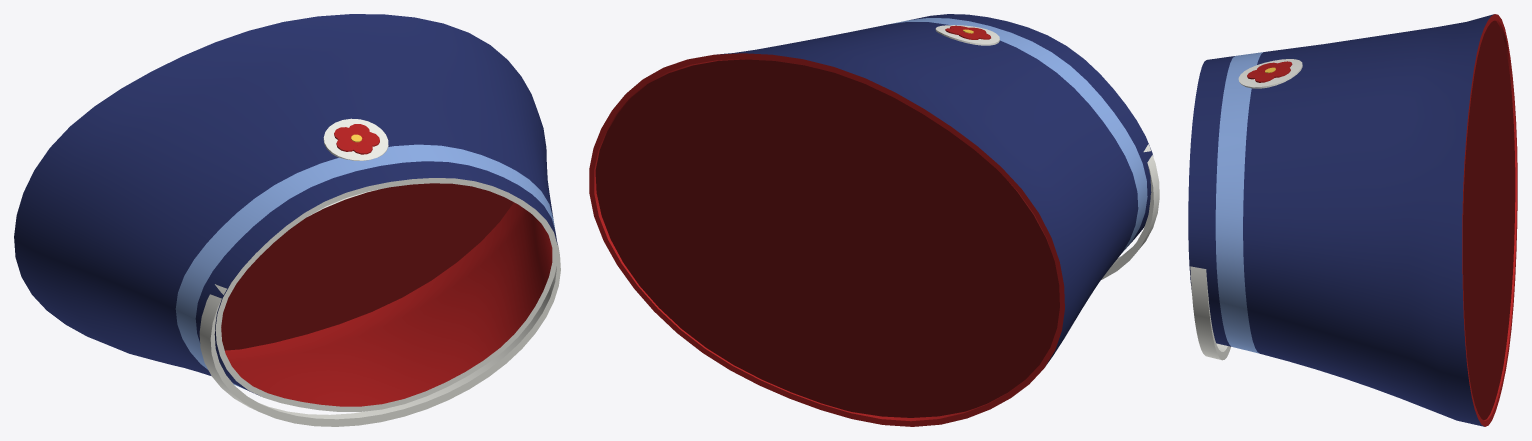
File: Sleeve_Kimono.fbx
The picture shows the model from 3 angles, left to right: view 1: azimuth 30°, elevation 25°; view 2: azimuth 150°, elevation 25°; view 3: azimuth 270°, elevation 25°; orthographic projection.
Parts seen in each view (by area): view 1: Sleeve_Kimono; view 2: Sleeve_Kimono; view 3: Sleeve_Kimono.
Boxes of the visible parts, x1,y1,x2,y2 form: Sleeve_Kimono: (14, 14, 560, 426); Sleeve_Kimono: (589, 14, 1159, 426); Sleeve_Kimono: (1188, 14, 1517, 426).
Size of the model in its own units: 1.33 by 0.8455 by 0.7582.
Materials: 1 (1 with a texture image).
